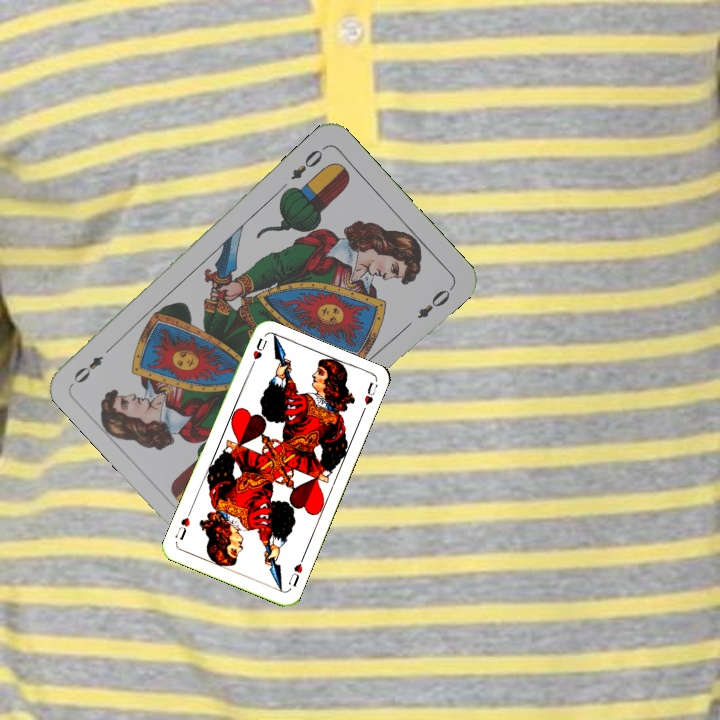EO: (286, 142, 328, 183)
HU: (246, 333, 270, 372), (284, 553, 307, 590)
